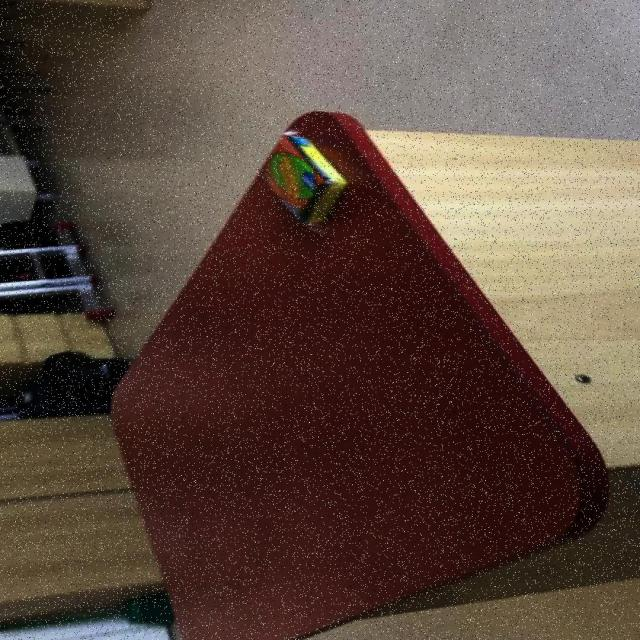Sponge: (108, 109, 609, 640), (264, 129, 351, 235)
